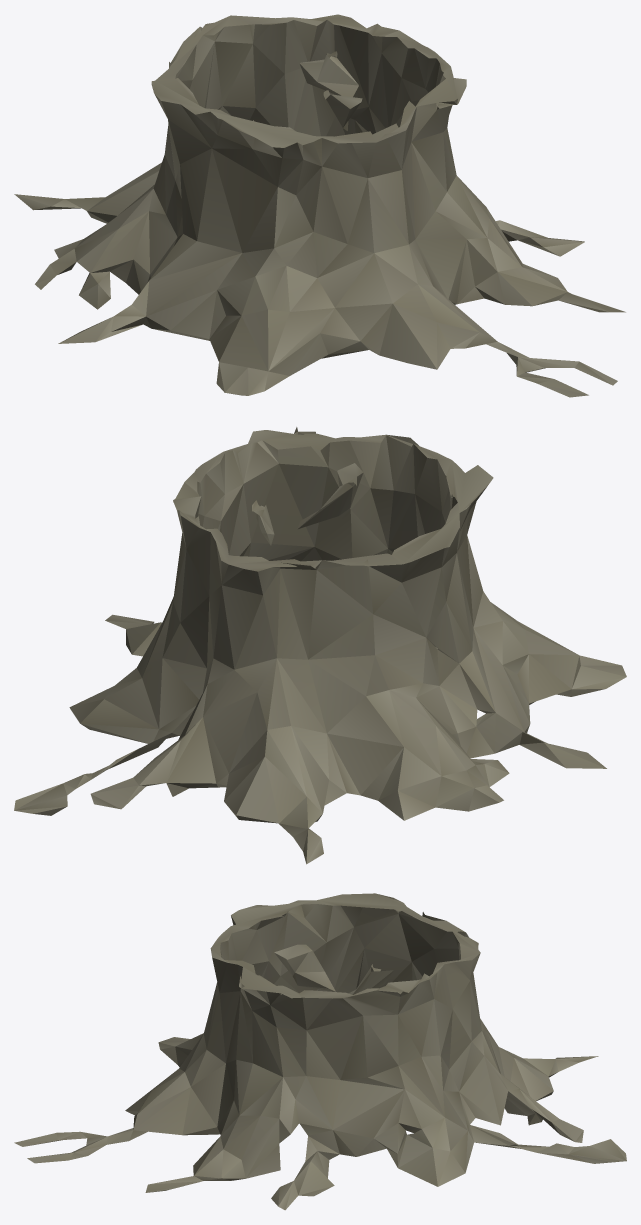
File: elder_stump.glb
The picture shows the model from 3 angles, top to bottom: view 1: azimuth 30°, elevation 25°; view 2: azimuth 150°, elevation 25°; view 3: azimuth 270°, elevation 25°; orthographic projection. The views are drawn at different scales.
Visible parts, largest first — view 1: Stump; view 2: Stump; view 3: Stump.
Part boxes in pixels (left/top/right/bottom): Stump: left=14, top=14, right=625, bottom=397; Stump: left=14, top=427, right=626, bottom=864; Stump: left=14, top=893, right=626, bottom=1210.
Bounding box in the file's own units: 2.17 × 0.8547 × 2.78.
